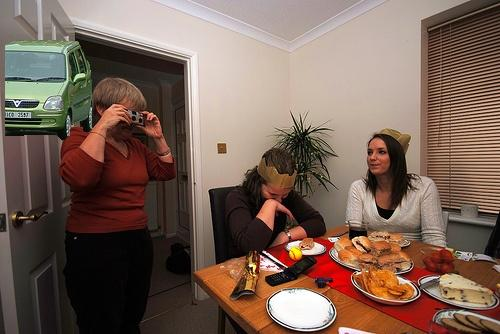tampered: (6, 41, 92, 140)
